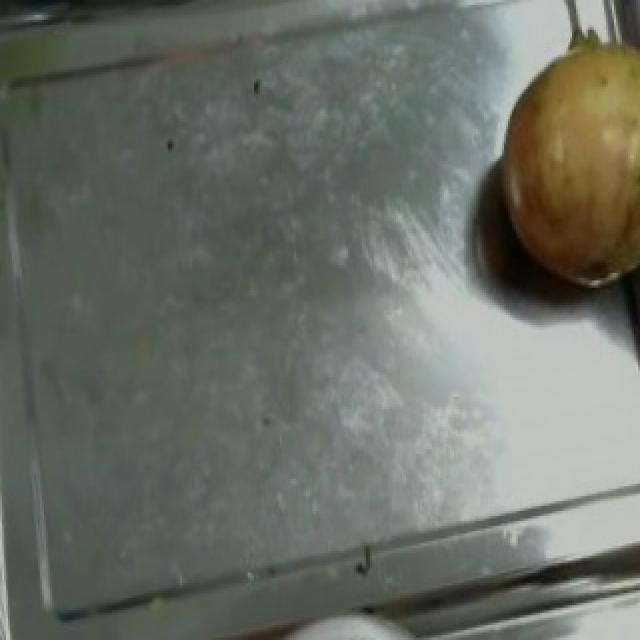fruit: (480, 10, 640, 285)
